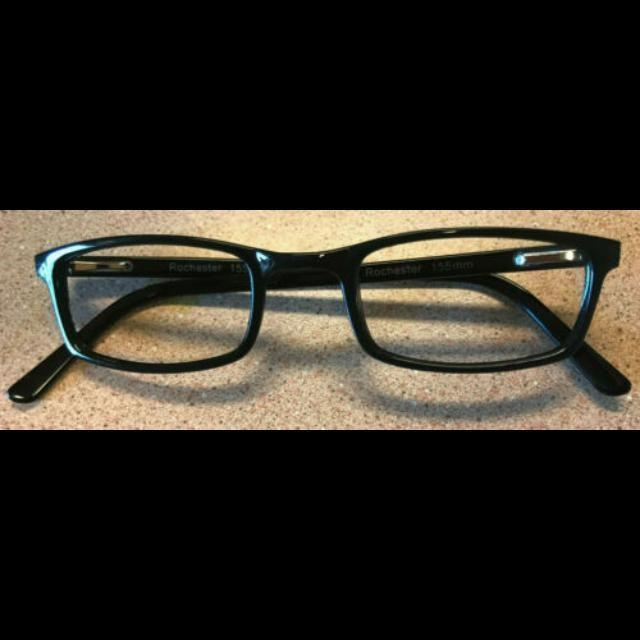glasses: (7, 224, 631, 406)
